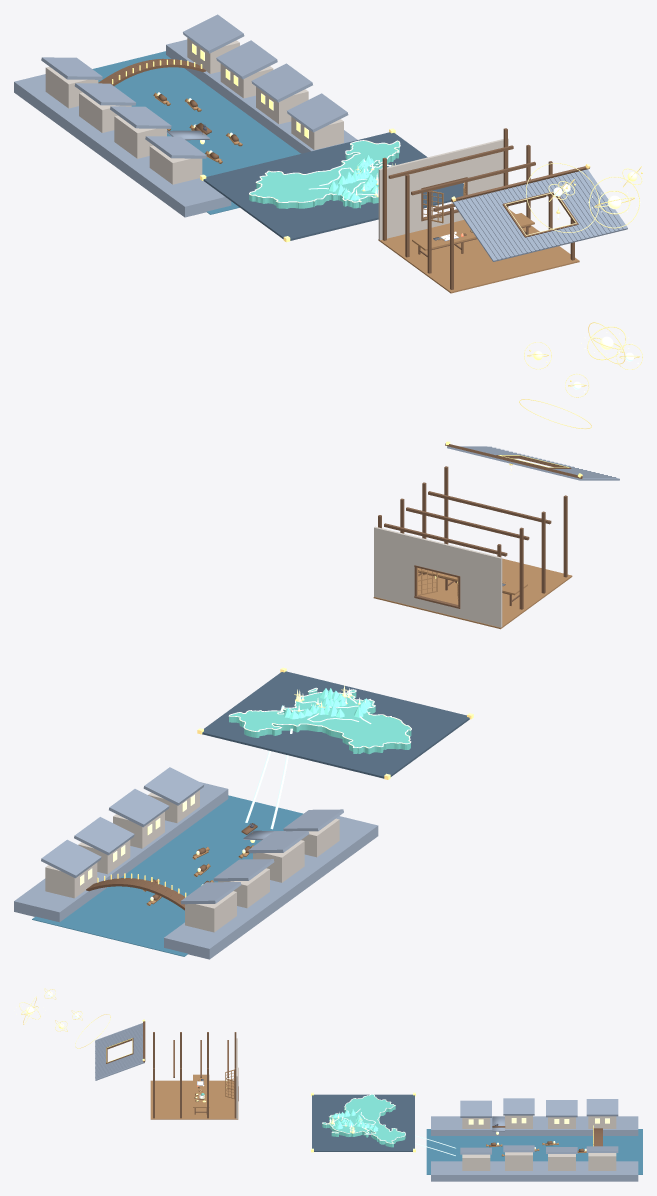
File: qingzhou-world.glb
3 renders of one model, top to bottom at view 1: azimuth 30°, elevation 25°; view 2: azimuth 150°, elevation 25°; view 3: azimuth 270°, elevation 25°, orthographic. The views are drawn at different scales.
Parts seen in each view (by area): view 1: River_Bank_Left, River_Bank_Right, Loft_Timber_Frame, River_Bed, Skylight_Portal, China_Plinth_Frame, Window_Portal, China_Mainland_Relief_0, River_Arched_Bridge, Long_Desk_Table, China_Mainland_Relief_0_Rim, Einstein_Core (+1 smaller); view 2: River_Bank_Left, River_Bank_Right, River_Bed, China_Plinth_Frame, Window_Portal, Loft_Timber_Frame, China_Mainland_Relief_0, Skylight_Portal, River_Arched_Bridge; view 3: River_Bank_Right, River_Bank_Left, River_Bed, China_Plinth_Frame, Loft_Timber_Frame, China_Mainland_Relief_0, Skylight_Portal, Long_Desk_Table, China_Mainland_Relief_0_Rim.
Part boxes in pixels (x1,y1,x2,y2): River_Bank_Left: [14, 57, 231, 217]; River_Bank_Right: [166, 14, 357, 153]; Loft_Timber_Frame: [378, 128, 579, 293]; River_Bed: [92, 51, 300, 214]; Skylight_Portal: [451, 164, 627, 261]; China_Plinth_Frame: [200, 128, 463, 242]; Window_Portal: [378, 138, 508, 240]; China_Mainland_Relief_0: [249, 141, 399, 208]; River_Arched_Bridge: [98, 58, 205, 85]; Long_Desk_Table: [412, 213, 534, 256]; China_Mainland_Relief_0_Rim: [249, 140, 400, 202]; Einstein_Core: [588, 176, 640, 228]; River_Bank_Left: [164, 809, 378, 959]; River_Bank_Right: [14, 767, 228, 922]; River_Bed: [32, 795, 303, 956]; China_Plinth_Frame: [197, 667, 473, 779]; Window_Portal: [374, 526, 502, 627]; Loft_Timber_Frame: [373, 466, 572, 629]; China_Mainland_Relief_0: [229, 692, 411, 754]; Skylight_Portal: [445, 441, 619, 480]; River_Arched_Bridge: [86, 873, 186, 910]; River_Bank_Right: [431, 1145, 638, 1181]; River_Bank_Left: [431, 1098, 638, 1135]; River_Bed: [426, 1129, 642, 1174]; China_Plinth_Frame: [311, 1092, 415, 1152]; Loft_Timber_Frame: [150, 1032, 238, 1119]; China_Mainland_Relief_0: [327, 1094, 405, 1147]; Skylight_Portal: [95, 1019, 145, 1080]; Long_Desk_Table: [193, 1074, 209, 1114]; China_Mainland_Relief_0_Rim: [327, 1094, 405, 1143].
Size of the model in its own units: 30.8 by 37.95 by 140.
